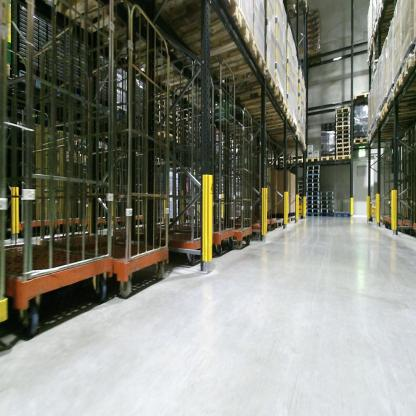pallet: (181, 7, 256, 63), (157, 2, 239, 45), (53, 2, 127, 31), (208, 45, 267, 80), (226, 74, 277, 98), (238, 87, 285, 107), (241, 101, 289, 120), (254, 108, 295, 127), (285, 1, 309, 18), (277, 160, 321, 169), (261, 121, 297, 132), (306, 50, 322, 70), (354, 88, 372, 103), (353, 135, 371, 145), (335, 209, 352, 219), (320, 154, 336, 163), (290, 153, 305, 161), (321, 190, 336, 197), (307, 156, 320, 164), (334, 107, 350, 113), (305, 191, 321, 197), (334, 112, 351, 117), (336, 156, 350, 162), (304, 205, 320, 210), (336, 117, 351, 122), (336, 125, 351, 130), (335, 134, 350, 139), (335, 143, 350, 148), (319, 200, 334, 205), (306, 196, 320, 201), (306, 214, 320, 219), (320, 214, 334, 219), (306, 169, 319, 174), (306, 174, 319, 179), (321, 209, 334, 214), (335, 148, 351, 152), (304, 201, 320, 205), (320, 196, 336, 200), (335, 139, 350, 143), (306, 187, 321, 191), (337, 152, 351, 156), (306, 210, 320, 214), (297, 179, 306, 185), (278, 156, 291, 160), (306, 179, 319, 183), (306, 183, 319, 187), (321, 205, 334, 209), (290, 161, 306, 164), (336, 122, 351, 125), (336, 131, 350, 134), (297, 185, 305, 190), (298, 193, 305, 198), (298, 190, 305, 193)
